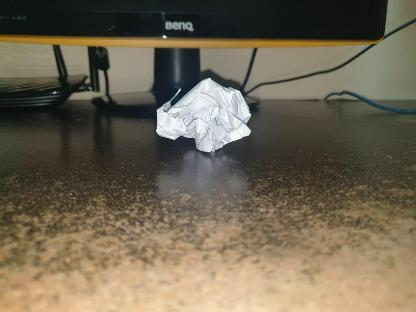Paper: (157, 76, 254, 154)
